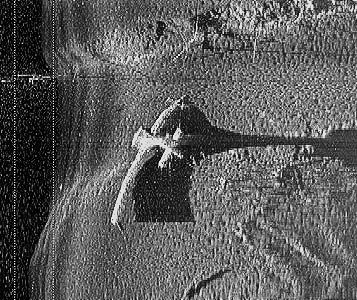plane: (109, 99, 191, 226)
